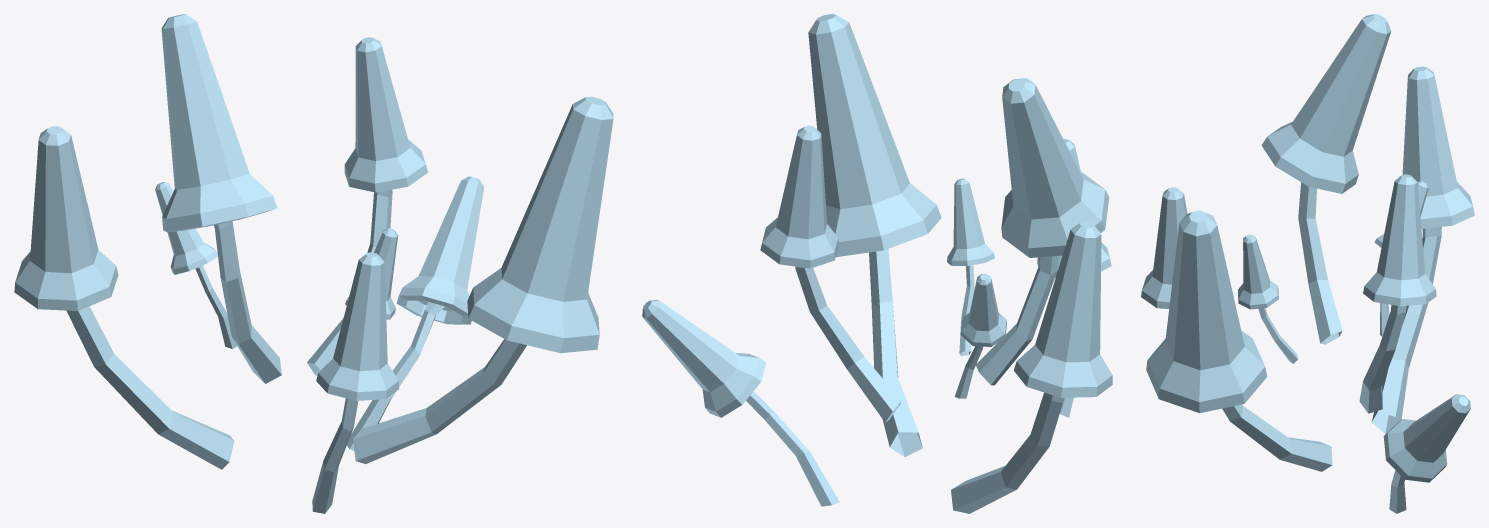
File: Mushrooms_04.fbx
3 renders of one model, left to right at view 1: azimuth 30°, elevation 25°; view 2: azimuth 150°, elevation 25°; view 3: azimuth 270°, elevation 25°, orthographic. The views are drawn at different scales.
Visible parts, largest first — view 1: Mushrooms_04; view 2: Mushrooms_04; view 3: Mushrooms_04.
Part boxes in pixels (box(x1,y1,x2,y2)): Mushrooms_04: box(14, 14, 613, 513); Mushrooms_04: box(642, 14, 1112, 513); Mushrooms_04: box(1141, 14, 1474, 513).
Bounding box in the file's own units: 1.12 × 0.8014 × 1.1.
